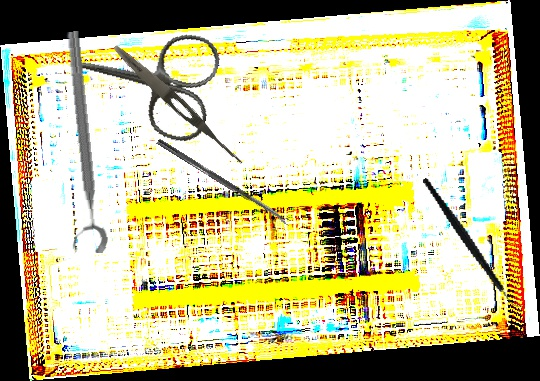Chopper: (422, 162, 526, 326)
Dressing Forceps: (109, 41, 250, 170)
Fixation Ring: (47, 30, 110, 256)
Iris Scissors: (61, 9, 224, 147)
Surgical Spoon: (155, 138, 292, 227)
